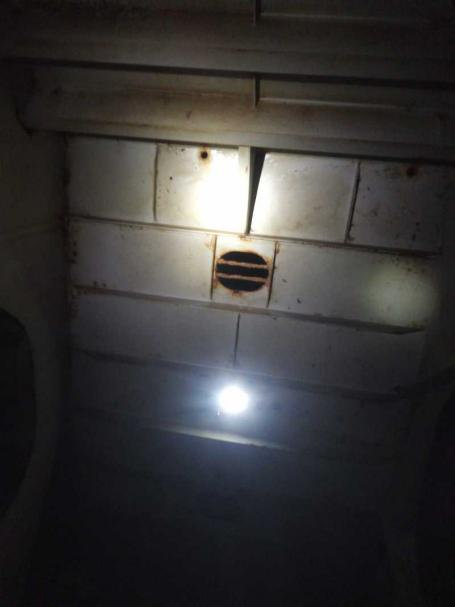corrosion: (98, 87, 321, 120), (204, 244, 285, 301), (188, 139, 221, 165), (375, 166, 423, 183)
